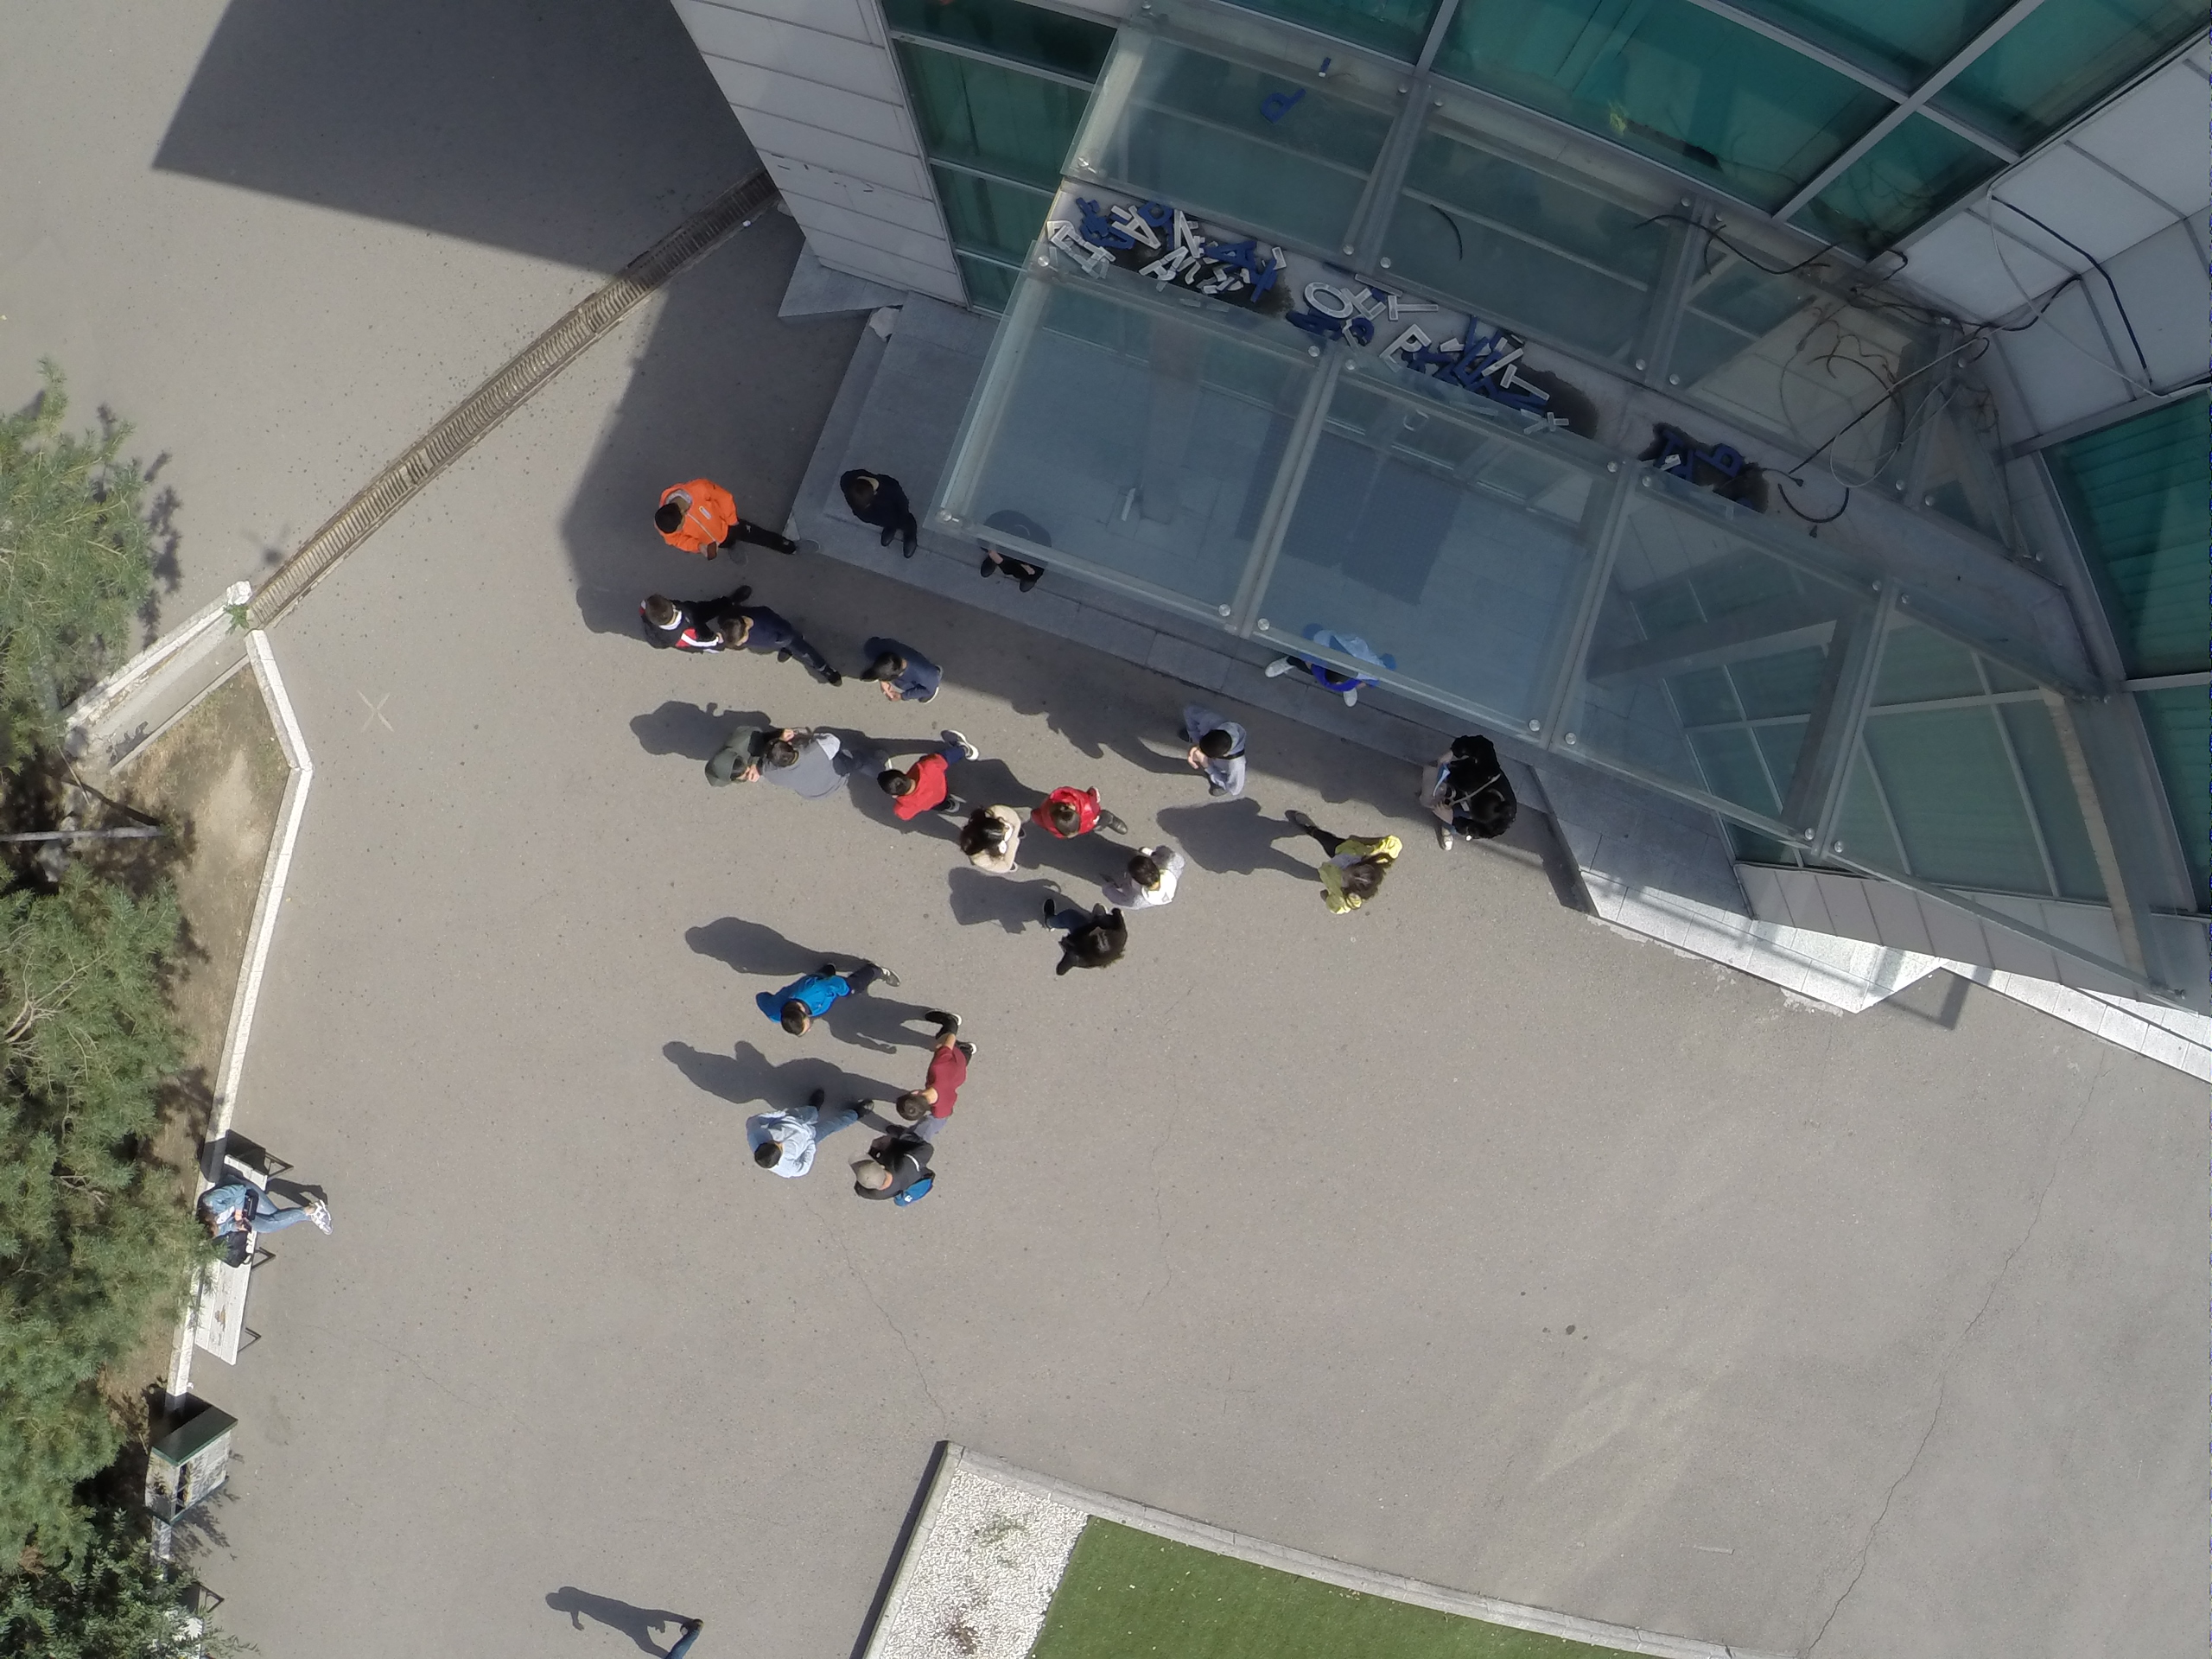person: (645, 476, 802, 559), (741, 1086, 874, 1180), (1426, 731, 1519, 859), (759, 954, 899, 1036), (1294, 820, 1402, 920), (725, 608, 845, 692), (875, 727, 976, 823), (897, 1009, 976, 1121), (199, 1179, 339, 1240), (845, 1124, 941, 1207), (1039, 893, 1128, 976), (840, 467, 919, 559), (1185, 704, 1255, 808), (861, 633, 948, 709), (1106, 836, 1185, 912), (768, 728, 857, 794), (957, 805, 1025, 882), (639, 590, 718, 655), (696, 726, 764, 789)
